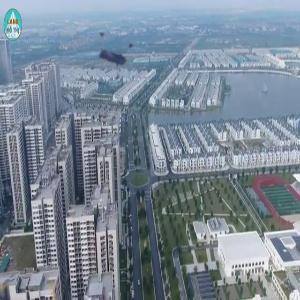drone: (81, 16, 155, 90)
